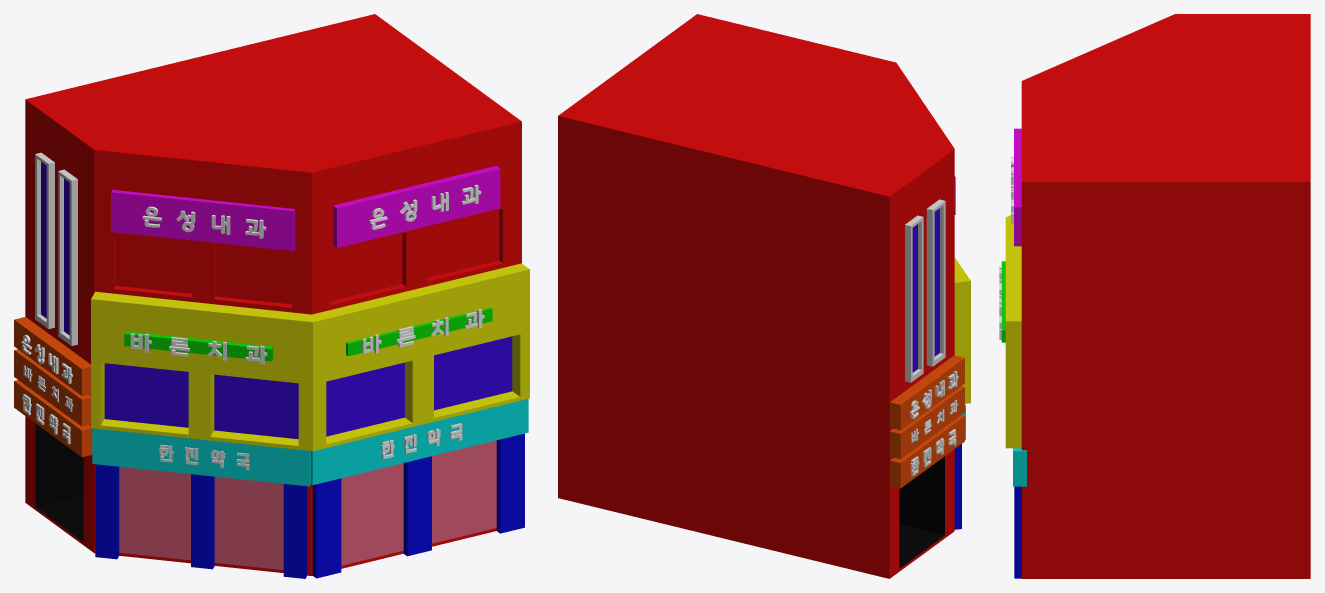
File: Building_12.fbx
The picture shows the model from 3 angles, left to right: view 1: azimuth 30°, elevation 25°; view 2: azimuth 150°, elevation 25°; view 3: azimuth 270°, elevation 25°; orthographic projection. The views are drawn at different scales.
Visible parts, largest first — view 1: Building_12, typeMesh48, typeMesh49, typeMesh37, typeMesh41, typeMesh46, typeMesh45; view 2: Building_12, typeMesh36, typeMesh47; view 3: Building_12.
Part boxes in pixels (<box>): Building_12: <box>14,14,529,578</box>; typeMesh48: <box>130,333,267,364</box>; typeMesh49: <box>362,309,484,353</box>; typeMesh37: <box>142,206,266,238</box>; typeMesh41: <box>369,184,481,229</box>; typeMesh46: <box>381,423,462,459</box>; typeMesh45: <box>159,444,249,470</box>; Building_12: <box>558,14,970,578</box>; typeMesh36: <box>909,371,958,418</box>; typeMesh47: <box>910,429,956,476</box>; Building_12: <box>1001,14,1310,578</box>.
Bounding box in the file's own units: 118 × 124 × 88.31.
